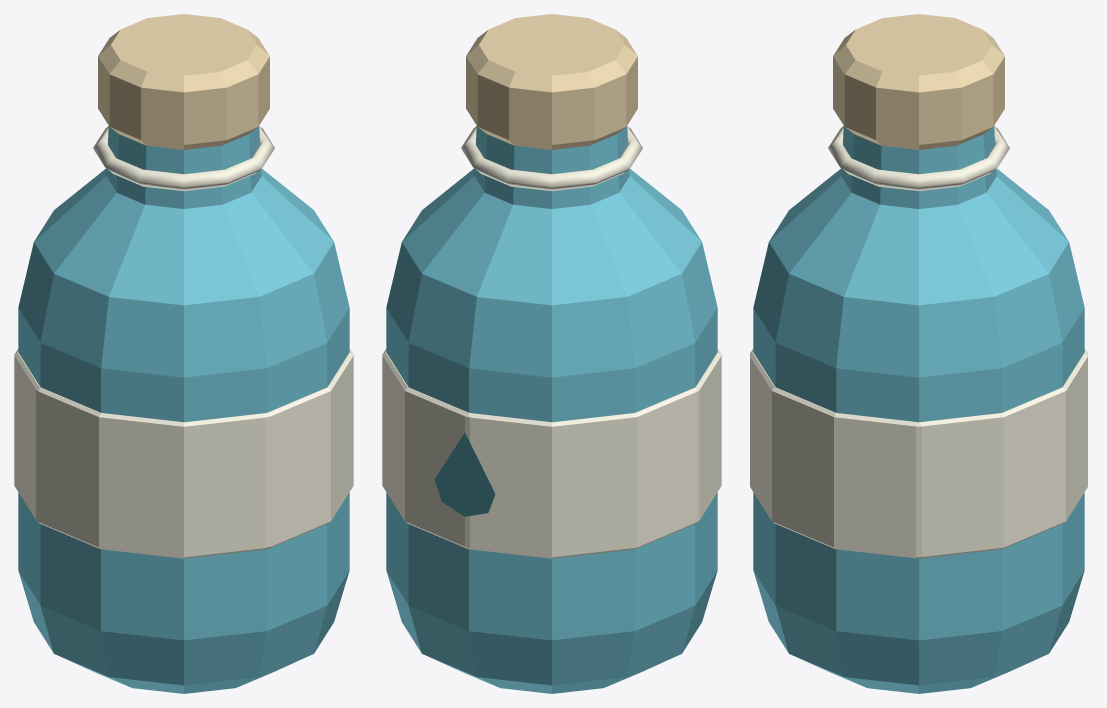
The model's file is WaterBottle.fbx.
3 views of the same model, side by side, from view 1: azimuth 30°, elevation 25°; view 2: azimuth 150°, elevation 25°; view 3: azimuth 270°, elevation 25° (orthographic).
Parts seen in each view (by area): view 1: Rounded bottle shoulders, Cream wrap label, Cork stopper, Neck tie; view 2: Rounded bottle shoulders, Cream wrap label, Cork stopper, Neck tie, Water seal; view 3: Rounded bottle shoulders, Cream wrap label, Cork stopper, Neck tie.
Part boxes in pixels (x1,y1,x2,y2): Rounded bottle shoulders: (18, 126, 349, 693); Cream wrap label: (14, 349, 353, 558); Cork stopper: (98, 14, 269, 149); Neck tie: (93, 126, 274, 190); Rounded bottle shoulders: (386, 126, 717, 693); Cream wrap label: (382, 349, 721, 558); Cork stopper: (466, 14, 637, 149); Neck tie: (461, 126, 642, 190); Water seal: (434, 433, 495, 516); Rounded bottle shoulders: (753, 126, 1084, 693); Cream wrap label: (750, 349, 1087, 558); Cork stopper: (833, 14, 1004, 149); Neck tie: (828, 126, 1009, 190).
Bounding box in the file's own units: 32.64 × 64.5 × 33.12.
